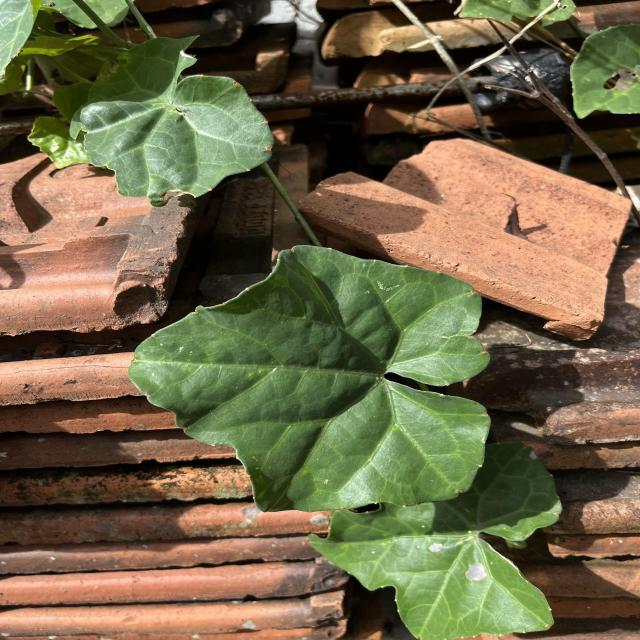Coccinia grandis: (127, 242, 494, 514)
